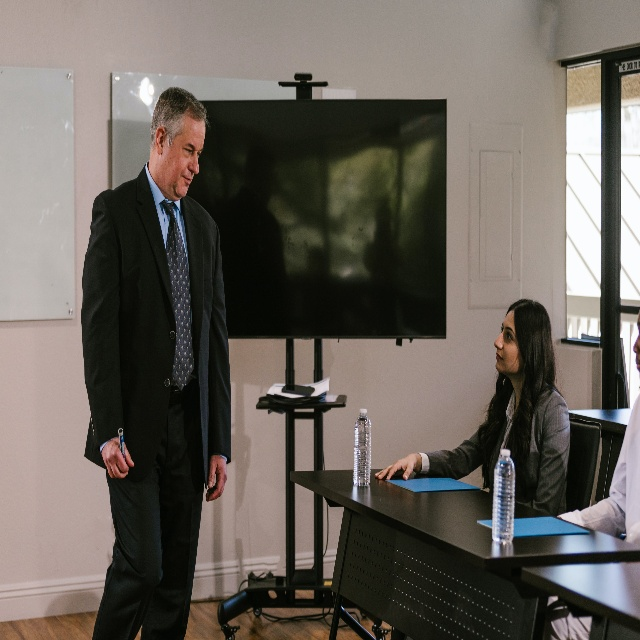Sin_guantes: (99, 437, 134, 479), (374, 452, 416, 482), (203, 454, 228, 504)
